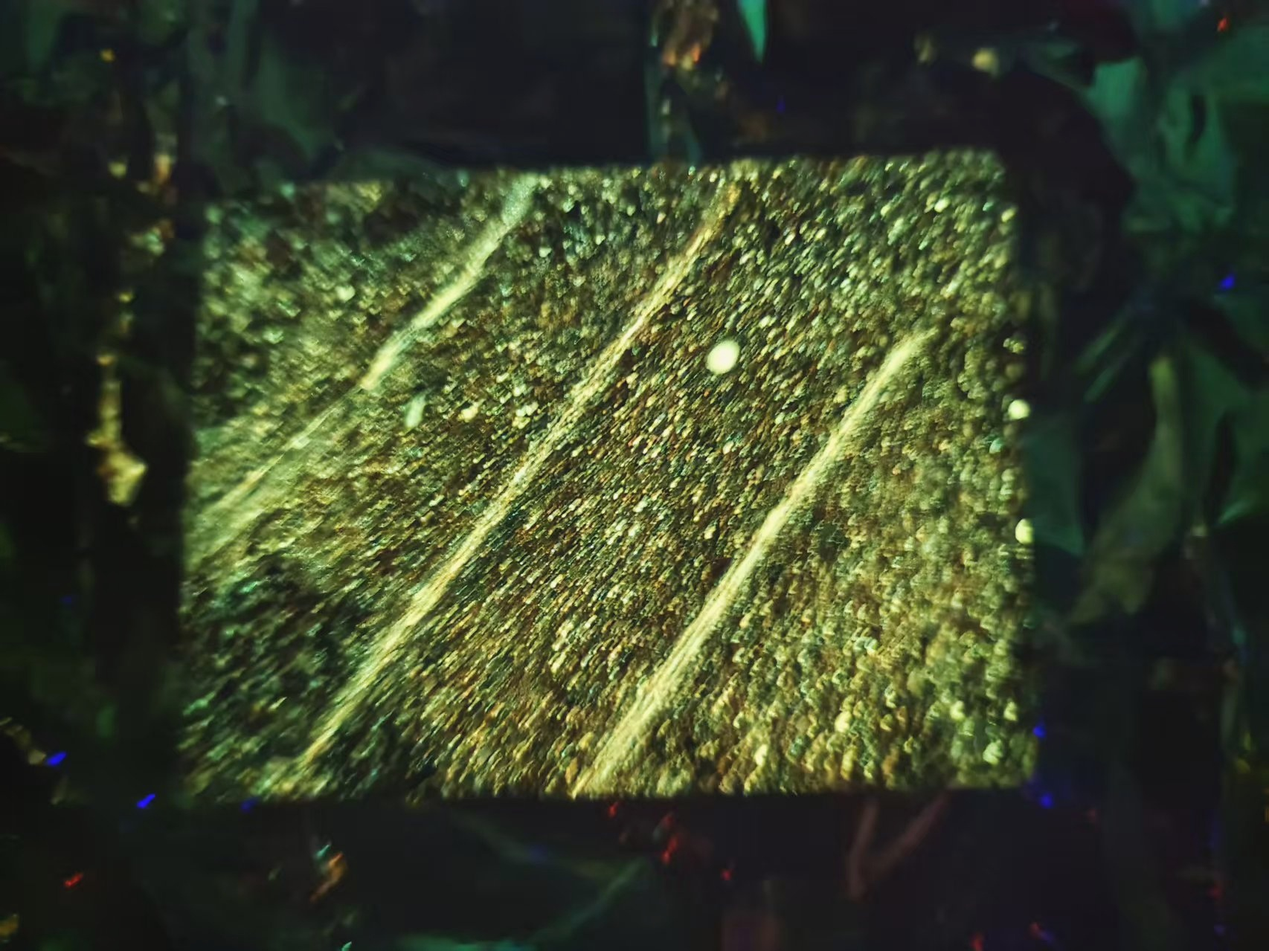Fissure: (282, 170, 754, 784), (567, 327, 932, 794), (176, 167, 538, 568)
